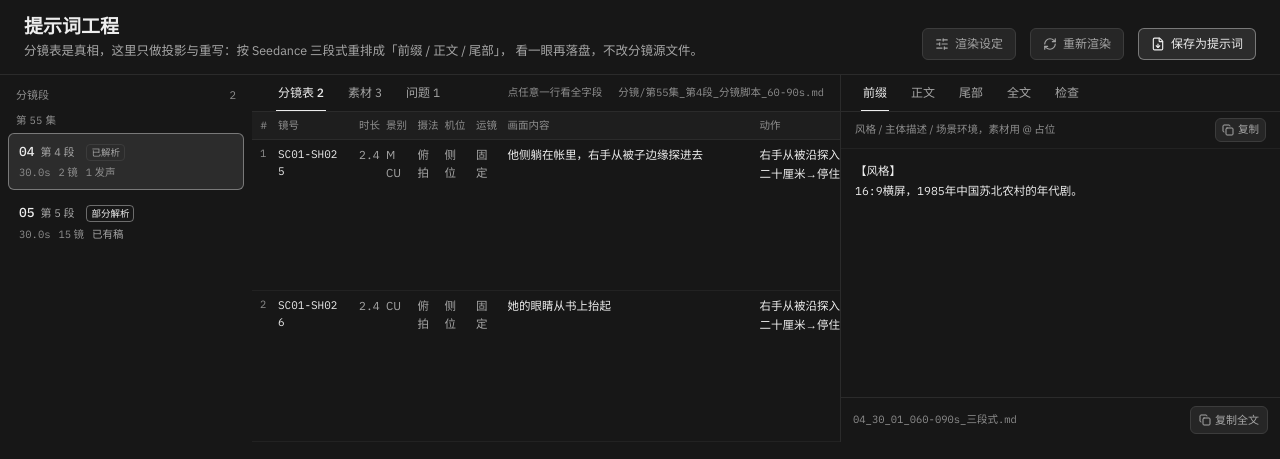
提示词工程三栏 › 切到素材页能看到待指定项
Expected: the text "SC01-SH025" is shown, [270, 140, 351, 291]
Click the button "素材 3". click: click(365, 92)
box: [338, 74, 392, 110]
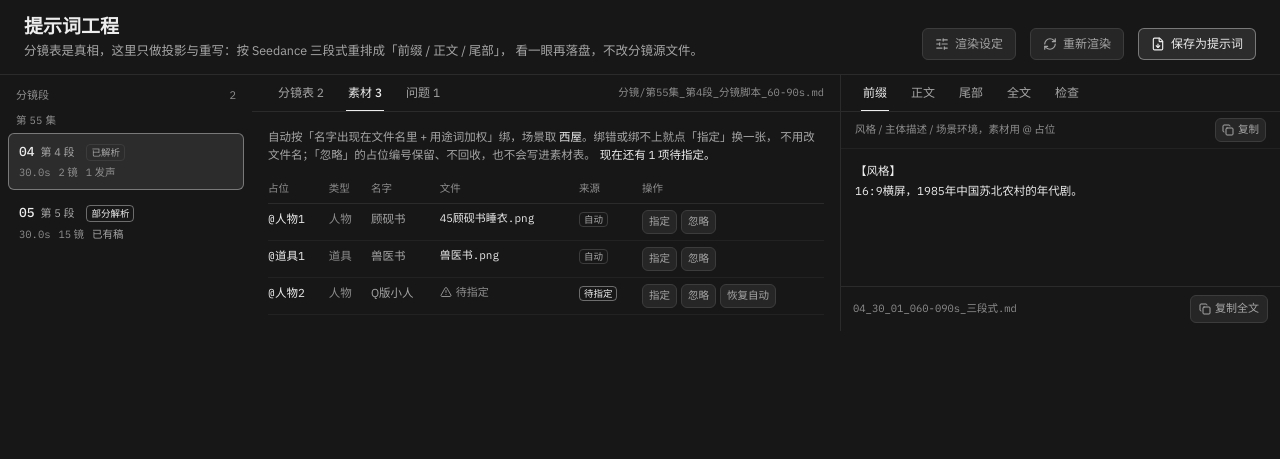
Now the text "待指定" is shown, box [440, 284, 489, 300]
Now the text "45顾砚书睡衣.png" is shown, box [440, 211, 534, 225]
